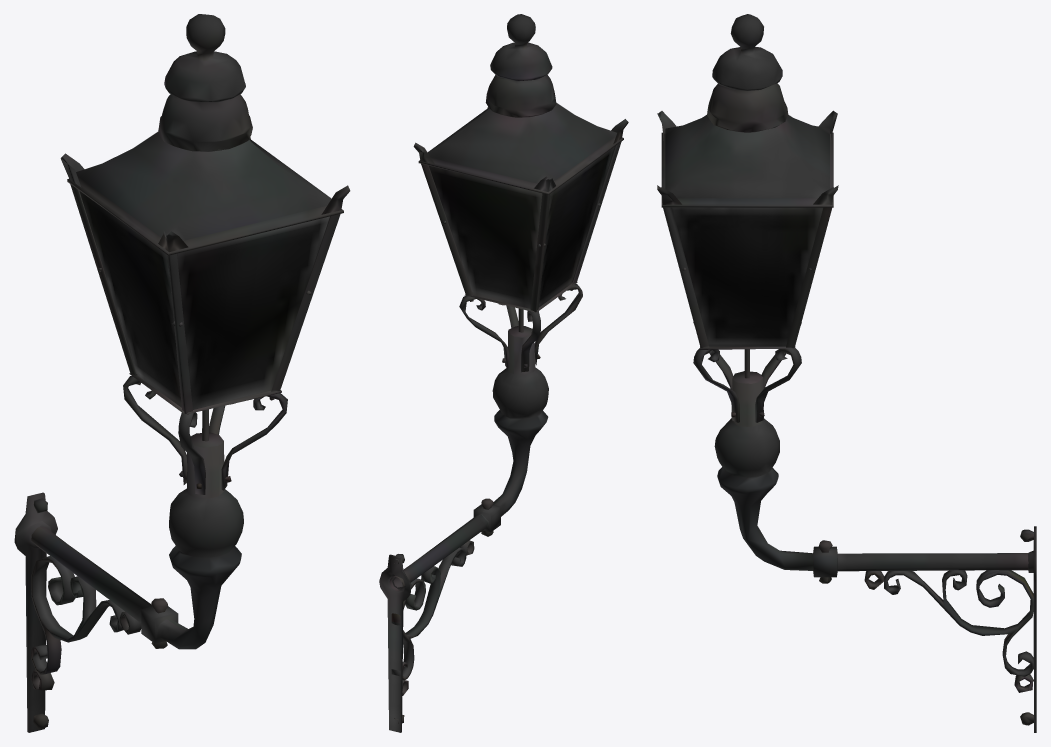
Rendered from street_lamp_02_lod2.glb.
3 views of the same model, side by side, from view 1: azimuth 30°, elevation 25°; view 2: azimuth 150°, elevation 25°; view 3: azimuth 270°, elevation 25° (orthographic). The views are drawn at different scales.
Parts seen in each view (by area): view 1: street_lamp_02; view 2: street_lamp_02; view 3: street_lamp_02.
Part boxes in pixels (left/top/right/bottom): street_lamp_02: left=14, top=14, right=350, bottom=732; street_lamp_02: left=379, top=14, right=628, bottom=732; street_lamp_02: left=657, top=14, right=1036, bottom=732.
Bounding box in the file's own units: 0.3848 × 1.67 × 0.8054.
2 materials, 2 textured.
